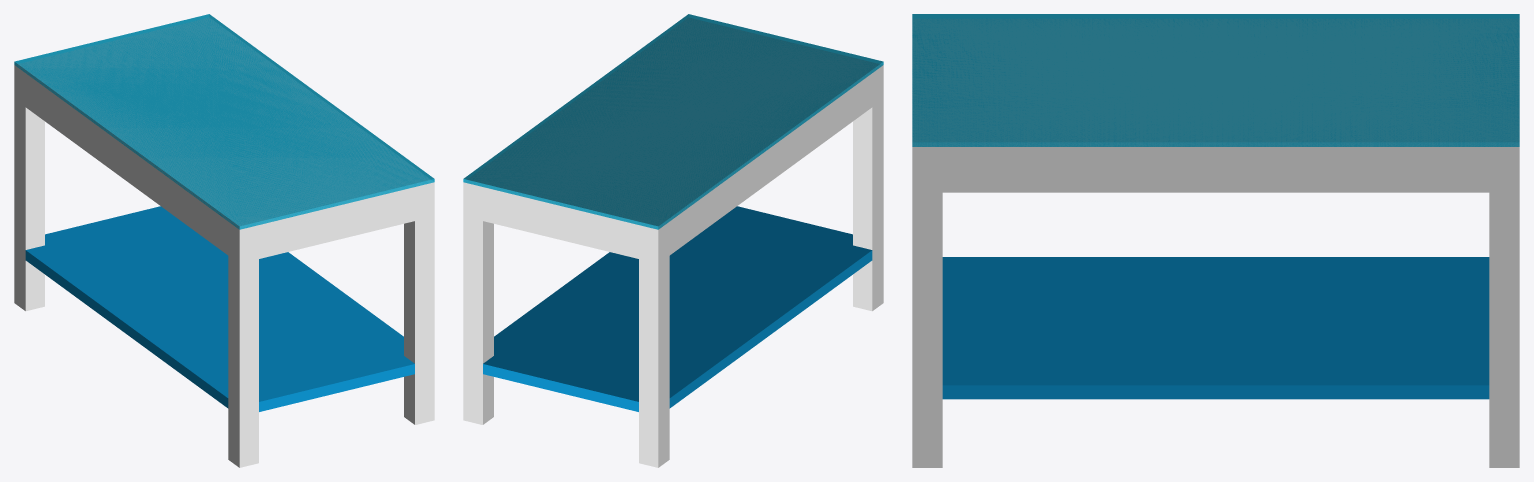
The model's file is dg-ic-Workbench2.glb.
3 views of the same model, side by side, from view 1: azimuth 30°, elevation 25°; view 2: azimuth 150°, elevation 25°; view 3: azimuth 270°, elevation 25° (orthographic). The views are drawn at different scales.
Visible parts, largest first — view 1: Component; view 2: Component; view 3: Component.
Part boxes in pixels (x1=…): Component: x1=14, y1=14, x2=434, y2=467; Component: x1=463, y1=14, x2=883, y2=467; Component: x1=912, y1=14, x2=1519, y2=467.
Size of the model in its own units: 23.25 by 27.51 by 46.5.
